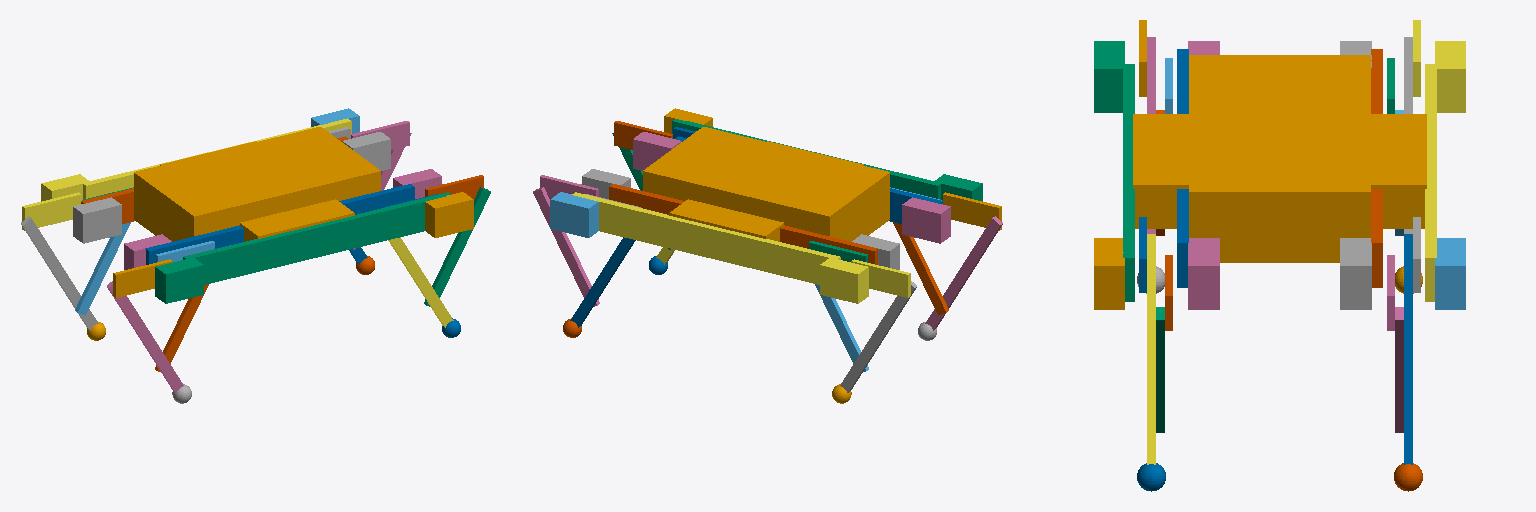
--- What the picture shows (computed from the rendered views, not written in the file) ---
3 views of the same robot in one strip: view 1: azimuth 30°, elevation 25°; view 2: azimuth 150°, elevation 25°; view 3: azimuth 270°, elevation 25° (orthographic).
Model minitaur with 40 links and 39 joints (16 continuous, 23 fixed), rooted at base_chassis_link_dummy, posed all joints at 0.
Visible links, largest first — view 1: base_chassis_link_dummy, frame1, chassis_left, frame3, motor_back_rightR_bracket_link, motor_front_rightR_bracket_link, chassis_right, lower_leg_back_leftL_link, lower_leg_back_rightR_link, frame2, upper_leg_back_leftL_link, lower_leg_front_rightR_link (+10 smaller); view 2: base_chassis_link_dummy, frame2, chassis_right, frame4, motor_back_leftL_bracket_link, motor_front_leftL_bracket_link, chassis_left, lower_leg_back_rightR_link, lower_leg_back_leftL_link, frame1, upper_leg_back_rightR_link, lower_leg_front_leftL_link (+10 smaller); view 3: base_chassis_link_dummy, chassis_left, chassis_right, frame2, frame1, motor_front_rightR_bracket_link, motor_front_leftL_bracket_link, motor_back_rightR_bracket_link, motor_back_leftL_bracket_link, lower_leg_front_leftL_link, lower_leg_front_rightR_link, frame3 (+13 smaller).
Link boxes in pixels (left/top/right/bottom): base_chassis_link_dummy: left=134, top=127, right=380, bottom=241; frame1: left=183, top=192, right=451, bottom=284; chassis_left: left=73, top=132, right=390, bottom=243; frame3: left=145, top=184, right=414, bottom=264; motor_back_rightR_bracket_link: left=155, top=258, right=203, bottom=303; motor_front_rightR_bracket_link: left=425, top=192, right=473, bottom=237; chassis_right: left=124, top=169, right=441, bottom=269; lower_leg_back_leftL_link: left=21, top=216, right=98, bottom=330; lower_leg_back_rightR_link: left=107, top=281, right=183, bottom=392; frame2: left=83, top=118, right=351, bottom=199; upper_leg_back_leftL_link: left=22, top=192, right=80, bottom=230; lower_leg_front_rightR_link: left=388, top=237, right=453, bottom=327; base_chassis_link_dummy: left=643, top=127, right=889, bottom=241; frame2: left=572, top=192, right=840, bottom=284; chassis_right: left=633, top=132, right=950, bottom=243; frame4: left=609, top=184, right=877, bottom=264; motor_back_leftL_bracket_link: left=820, top=258, right=868, bottom=303; motor_front_leftL_bracket_link: left=550, top=192, right=598, bottom=237; chassis_left: left=582, top=169, right=899, bottom=269; lower_leg_back_rightR_link: left=925, top=216, right=1002, bottom=330; lower_leg_back_leftL_link: left=840, top=281, right=916, bottom=392; frame1: left=672, top=119, right=940, bottom=199; upper_leg_back_rightR_link: left=943, top=192, right=1001, bottom=230; lower_leg_front_leftL_link: left=570, top=237, right=635, bottom=327; base_chassis_link_dummy: left=1133, top=55, right=1426, bottom=262; chassis_left: left=1340, top=41, right=1371, bottom=309; chassis_right: left=1188, top=41, right=1219, bottom=309; frame2: left=1425, top=64, right=1436, bottom=301; frame1: left=1123, top=64, right=1134, bottom=301; motor_front_rightR_bracket_link: left=1094, top=238, right=1124, bottom=309; motor_front_leftL_bracket_link: left=1435, top=238, right=1465, bottom=309; motor_back_rightR_bracket_link: left=1094, top=41, right=1124, bottom=112; motor_back_leftL_bracket_link: left=1435, top=41, right=1465, bottom=112; lower_leg_front_leftL_link: left=1404, top=234, right=1412, bottom=464; lower_leg_front_rightR_link: left=1147, top=234, right=1155, bottom=464; frame3: left=1177, top=49, right=1188, bottom=287.
Size in the robot's own frame: 0.6797 by 0.38 by 0.2883 metres.
Geometry: only primitive shapes (box / cylinder / sphere) drawn; not drawn: 8 mesh visuals (reference in a form the renderer does not follow).

URDF robot description (minitaur):
<?xml version="1.0" ?>
<!-- =================================================================================== -->
<!-- |    This document was autogenerated by xacro from minitaur_gazebo.urdf.xacro     | -->
<!-- |    EDITING THIS FILE BY HAND IS NOT RECOMMENDED                                 | -->
<!-- =================================================================================== -->
<!-- ======================================================================= -->
<!--LICENSE:                                                                 -->
<!--Copyright (c) 2017, Erwin Coumans                                        -->
<!--Google Inc.                                                              -->
<!--All rights reserved.                                                     -->
<!--                                                                         -->
<!--Redistribution and use in source and binary forms, with or without       -->
<!--modification, are permitted provided that the following conditions are   -->
<!--met:                                                                     -->
<!--                                                                         -->
<!--1. Redistributions or derived work must retain this copyright notice,    -->
<!--   this list of conditions and the following disclaimer.                 -->
<!--                                                                         -->
<!--2. Redistributions in binary form must reproduce the above copyright     -->
<!--   notice, this list of conditions and the following disclaimer in the   -->
<!--   documentation and/or other materials provided with the distribution.  -->
<!--                                                                         -->
<!--THIS SOFTWARE IS PROVIDED BY THE COPYRIGHT HOLDERS AND CONTRIBUTORS "AS  -->
<!--IS" AND ANY EXPRESS OR IMPLIED WARRANTIES, INCLUDING, BUT NOT LIMITED TO,-->
<!--THE IMPLIED WARRANTIES OF MERCHANTABILITY AND FITNESS FOR A PARTICULAR   -->
<!--PURPOSE ARE DISCLAIMED. IN NO EVENT SHALL THE COPYRIGHT HOLDER OR        -->
<!--CONTRIBUTORS BE LIABLE FOR ANY DIRECT, INDIRECT, INCIDENTAL, SPECIAL,    -->
<!--EXEMPLARY, OR CONSEQUENTIAL DAMAGES (INCLUDING, BUT NOT LIMITED TO,      -->
<!--PROCUREMENT OF SUBSTITUTE GOODS OR SERVICES; LOSS OF USE, DATA, OR       -->
<!--PROFITS; OR BUSINESS INTERRUPTION) HOWEVER CAUSED AND ON ANY THEORY OF   -->
<!--LIABILITY, WHETHER IN CONTRACT, STRICT LIABILITY, OR TORT (INCLUDING     -->
<!--NEGLIGENCE OR OTHERWISE) ARISING IN ANY WAY OUT OF THE USE OF THIS       -->
<!--SOFTWARE, EVEN IF ADVISED OF THE POSSIBILITY OF SUCH DAMAGE.             -->
<!--                                                                         -->
<!-- Converted to xacro by Tom Jacobs and Vasileios Vasilopoulos             -->
<!-- <[email redacted]>, <[email redacted]>              -->
<robot name="minitaur" xmlns:xacro="http://www.ros.org/wiki/xacro">
  <!-- Define parameters -->
  <!-- 7.18kg minitaur total weight - 0.016*4 - 0.10*8 - 0.25*8 - 0.05*8 - 0.05*8 = 3.516 -->
  <!-- * 4 frames -->
  <!-- * 8 motor modules -->
  <!-- * 8 motors -->
  <!-- * 8 upper legs -->
  <!-- * 8 lower legs -->
  <!-- LINK: Body dummy -->
  <link name="base_chassis_link_dummy">
    <visual>
      <geometry>
        <box size="0.33 0.1855 0.08"/>
      </geometry>
    </visual>
    <visual>
      <origin rpy="0 0 0" xyz="0 0.10 -0.014"/>
      <geometry>
        <box size="0.17 0.1 0.05"/>
      </geometry>
    </visual>
    <visual>
      <origin rpy="0 0 0" xyz="0 -0.10 -0.014"/>
      <geometry>
        <box size="0.17 0.1 0.05"/>
      </geometry>
    </visual>
    <collision>
      <geometry>
        <box size="0.33 0.1855 0.08"/>
      </geometry>
    </collision>
    <collision>
      <origin rpy="0 0 0" xyz="0 0.10 -0.014"/>
      <geometry>
        <box size="0.17 0.1 0.05"/>
      </geometry>
    </collision>
    <collision>
      <origin rpy="0 0 0" xyz="0 -0.10 -0.014"/>
      <geometry>
        <box size="0.17 0.1 0.05"/>
      </geometry>
    </collision>
  </link>
  <gazebo reference="base_chassis_link_dummy">
    <material>Gazebo/FlatBlack</material>
  </gazebo>
  <!-- LINK: Body -->
  <link name="base_chassis_link">
    <visual>
      <geometry>
        <box size="0.33 0.1855 0.08"/>
      </geometry>
    </visual>
    <visual>
      <origin rpy="0 0 0" xyz="0 0.10 -0.014"/>
      <geometry>
        <box size="0.17 0.1 0.05"/>
      </geometry>
    </visual>
    <visual>
      <origin rpy="0 0 0" xyz="0 -0.10 -0.014"/>
      <geometry>
        <box size="0.17 0.1 0.05"/>
      </geometry>
    </visual>
    <collision>
      <geometry>
        <box size="0.33 0.1855 0.08"/>
      </geometry>
    </collision>
    <collision>
      <origin rpy="0 0 0" xyz="0 0.10 -0.014"/>
      <geometry>
        <box size="0.17 0.1 0.05"/>
      </geometry>
    </collision>
    <collision>
      <origin rpy="0 0 0" xyz="0 -0.10 -0.014"/>
      <geometry>
        <box size="0.17 0.1 0.05"/>
      </geometry>
    </collision>
    <inertial>
      <mass value="3.516"/>
      <origin rpy="0 0 0" xyz="0 0 0"/>
      <!-- https://en.wikipedia.org/wiki/List_of_moments_of_inertia Solid Cuboid -->
      <inertia ixx="0.01195740325" ixy="0.0" ixz="0.0" iyy="0.0337829" iyz="0.0" izz="0.04198990325"/>
    </inertial>
  </link>
  <gazebo reference="base_chassis_link">
    <material>Gazebo/FlatBlack</material>
  </gazebo>
  <!-- JOINT: body to body dummy -->
  <joint name="dummy_joint" type="fixed">
    <axis xyz="0 0 1"/>
    <parent link="base_chassis_link_dummy"/>
    <child link="base_chassis_link"/>
    <origin rpy="0 0 0" xyz="0 0 0"/>
    <limit effort="100" velocity="100"/>
    <joint_properties damping=".0" friction=".0"/>
  </joint>
  <!-- LINK: frame1 -->
  <link name="frame1">
    <visual>
      <origin rpy="0 0 0" xyz="-0.22 0 0"/>
      <geometry>
        <box size="0.468 .012 .050"/>
      </geometry>
    </visual>
    <collision>
      <origin rpy="0 0 0" xyz="-0.22 0 0"/>
      <geometry>
        <box size="0.468 .012 .050"/>
      </geometry>
    </collision>
    <inertial>
      <origin rpy="0 0 0" xyz="0 -0.03 0"/>
      <mass value="0.16"/>
      <inertia ixx=".00011397" ixy=".0" ixz=".0" iyy=".00011397" iyz=".0" izz=".00021765"/>
    </inertial>
  </link>
  <gazebo reference="frame1">
    <material>Gazebo/Grey</material>
  </gazebo>
  <!-- JOINT: frame1 to body -->
  <joint name="frame1_joint" type="fixed">
    <axis xyz="0 0 1"/>
    <parent link="base_chassis_link"/>
    <child link="frame1"/>
    <origin rpy="0 0 0" xyz=".2375 -0.154 -.0185"/>
    <limit effort="100" velocity="100"/>
    <joint_properties damping=".0" friction=".0"/>
  </joint>
  <!-- LINK: frame2 -->
  <link name="frame2">
    <visual>
      <origin rpy="0 0 0" xyz="-0.22 0 0"/>
      <geometry>
        <box size="0.468 .012 .050"/>
      </geometry>
    </visual>
    <collision>
      <origin rpy="0 0 0" xyz="-0.22 0 0"/>
      <geometry>
        <box size="0.468 .012 .050"/>
      </geometry>
    </collision>
    <inertial>
      <origin rpy="0 0 0" xyz="0 0.02 0"/>
      <mass value="0.16"/>
      <inertia ixx=".00011397" ixy=".0" ixz=".0" iyy=".00011397" iyz=".0" izz=".00021765"/>
    </inertial>
  </link>
  <gazebo reference="frame2">
    <material>Gazebo/Grey</material>
  </gazebo>
  <!-- JOINT: frame2 to body -->
  <joint name="frame2_joint" type="fixed">
    <axis xyz="0 0 1"/>
    <parent link="base_chassis_link"/>
    <child link="frame2"/>
    <origin rpy="0 0 0" xyz=".2375 0.154 -.0185"/>
    <limit effort="100" velocity="100"/>
    <joint_properties damping=".0" friction=".0"/>
  </joint>
  <!-- LINK: frame3 -->
  <link name="frame3">
    <visual>
      <origin rpy="0 0 0" xyz="0.22 0.055 0"/>
      <geometry>
        <box size="0.468 .012 .050"/>
      </geometry>
    </visual>
    <collision>
      <origin rpy="0 0 0" xyz="0.22 0.055 0"/>
      <geometry>
        <box size="0.468 .012 .050"/>
      </geometry>
    </collision>
    <inertial>
      <origin rpy="0 0 0" xyz="0 -0.03 0"/>
      <mass value="0.16"/>
      <inertia ixx=".00011397" ixy=".0" ixz=".0" iyy=".00011397" iyz=".0" izz=".00021765"/>
    </inertial>
  </link>
  <gazebo reference="frame3">
    <material>Gazebo/Grey</material>
  </gazebo>
  <!-- JOINT: frame3 to body -->
  <joint name="frame3_joint" type="fixed">
    <axis xyz="0 0 1"/>
    <parent link="base_chassis_link"/>
    <child link="frame3"/>
    <origin rpy="0 0 0" xyz="-.2375 -0.154 -.0185"/>
    <limit effort="100" velocity="100"/>
    <joint_properties damping=".0" friction=".0"/>
  </joint>
  <!-- LINK: frame4 -->
  <link name="frame4">
    <visual>
      <origin rpy="0 0 0" xyz="0.22 -0.055 0"/>
      <geometry>
        <box size="0.468 .012 .050"/>
      </geometry>
    </visual>
    <collision>
      <origin rpy="0 0 0" xyz="0.22 -0.055 0"/>
      <geometry>
        <box size="0.468 .012 .050"/>
      </geometry>
    </collision>
    <inertial>
      <origin rpy="0 0 0" xyz="0 0.02 0"/>
      <mass value="0.16"/>
      <inertia ixx=".00011397" ixy=".0" ixz=".0" iyy=".00011397" iyz=".0" izz=".00021765"/>
    </inertial>
  </link>
  <gazebo reference="frame4">
    <material>Gazebo/Grey</material>
  </gazebo>
  <!-- JOINT: frame4 to body -->
  <joint name="frame4" type="fixed">
    <axis xyz="0 0 1"/>
    <parent link="base_chassis_link"/>
    <child link="frame4"/>
    <origin rpy="0 0 0" xyz="-.2375 0.154 -.0185"/>
    <limit effort="100" velocity="100"/>
    <joint_properties damping=".0" friction=".0"/>
  </joint>
  <!-- Inside motor module boxes -->
  <!-- LINK: chassis_right -->
  <link name="chassis_right">
    <visual>
      <origin rpy="0 0 0" xyz=".2375 .049 0"/>
      <geometry>
        <box size=".068 .032 .050"/>
      </geometry>
    </visual>
    <visual>
      <origin rpy="0 0 0" xyz="-.2375 .049 0"/>
      <geometry>
        <box size=".068 .032 .050"/>
      </geometry>
    </visual>
    <collision>
      <origin rpy="0 0 0" xyz=".2375 .049 0"/>
      <geometry>
        <box size=".068 .032 .050"/>
      </geometry>
    </collision>
    <collision>
      <origin rpy="0 0 0" xyz="-.2375 .049 0"/>
      <geometry>
        <box size=".068 .032 .050"/>
      </geometry>
    </collision>
    <inertial>
      <mass value="0.2"/>
      <inertia ixx=".004147" ixy=".0" ixz=".0" iyy=".040913" iyz=".0" izz=".041840"/>
    </inertial>
  </link>
  <gazebo reference="chassis_right">
    <material>Gazebo/Black</material>
  </gazebo>
  <!-- JOINT: chassis_right_center to body -->
  <joint name="chassis_right_center" type="fixed">
    <axis xyz="0 0 1"/>
    <parent link="base_chassis_link"/>
    <child link="chassis_right"/>
    <origin rpy="0 0 0" xyz="0 -.1265 -.0185"/>
    <limit effort="100" velocity="100"/>
    <joint_properties damping=".0" friction=".0"/>
  </joint>
  <!-- LINK: chassis_left -->
  <link name="chassis_left">
    <visual>
      <origin rpy="0 0 0" xyz=".2375 -.049 0"/>
      <geometry>
        <box size=".068 .032 .050"/>
      </geometry>
    </visual>
    <visual>
      <origin rpy="0 0 0" xyz="-.2375 -.049 0"/>
      <geometry>
        <box size=".068 .032 .050"/>
      </geometry>
    </visual>
    <collision>
      <origin rpy="0 0 0" xyz=".2375 -.049 0"/>
      <geometry>
        <box size=".068 .032 .050"/>
      </geometry>
    </collision>
    <collision>
      <origin rpy="0 0 0" xyz="-.2375 -.049 0"/>
      <geometry>
        <box size=".068 .032 .050"/>
      </geometry>
    </collision>
    <inertial>
      <mass value="0.2"/>
      <inertia ixx=".004147" ixy=".0" ixz=".0" iyy=".040913" iyz=".0" izz=".041840"/>
    </inertial>
  </link>
  <gazebo reference="chassis_left">
    <material>Gazebo/Black</material>
  </gazebo>
  <!-- JOINT: chassis_left_center to body -->
  <joint name="chassis_left_center" type="fixed">
    <axis xyz="0 0 1"/>
    <parent link="base_chassis_link"/>
    <child link="chassis_left"/>
    <origin rpy="0 0 0" xyz="0 .1265 -.0185"/>
    <limit effort="100" velocity="100"/>
    <joint_properties damping=".0" friction=".0"/>
  </joint>
  <!-- Outside motor module boxes -->
  <!-- LINK: motor_front_rightR_bracket_link -->
  <link name="motor_front_rightR_bracket_link">
    <visual>
      <origin rpy="0 0 0" xyz="0 -0.02 0"/>
      <geometry>
        <box size="0.068 .032 .050"/>
      </geometry>
    </visual>
    <collision>
      <origin rpy="0 0 0" xyz="0 -0.02 0"/>
      <geometry>
        <box size=".068 .032 .050"/>
      </geometry>
    </collision>
    <inertial>
      <origin rpy="0 0 0" xyz="0 -0.03 0"/>
      <mass value="0.1"/>
      <inertia ixx=".00011397" ixy=".0" ixz=".0" iyy=".00011397" iyz=".0" izz=".00021765"/>
    </inertial>
  </link>
  <gazebo reference="motor_front_rightR_bracket_link">
    <material>Gazebo/Black</material>
  </gazebo>
  <!-- JOINT: motor_front_rightR_bracket_link to body -->
  <joint name="motor_front_rightR_bracket_joint" type="fixed">
    <axis xyz="0 0 1"/>
    <parent link="base_chassis_link"/>
    <child link="motor_front_rightR_bracket_link"/>
    <origin rpy="0 0 0" xyz=".2375 -0.154 -.0185"/>
    <limit effort="100" velocity="100"/>
    <joint_properties damping=".0" friction=".0"/>
  </joint>
  <!-- LINK: motor_front_leftL_bracket_link -->
  <link name="motor_front_leftL_bracket_link">
    <visual>
      <origin rpy="0 0 0" xyz="0 0.02 0"/>
      <geometry>
        <box size="0.068 .032 .050"/>
      </geometry>
    </visual>
    <collision>
      <origin rpy="0 0 0" xyz="0 0.02 0"/>
      <geometry>
        <box size=".068 .032 .050"/>
      </geometry>
    </collision>
    <inertial>
      <origin rpy="0 0 0" xyz="0 0.02 0"/>
      <mass value="0.1"/>
      <inertia ixx=".00011397" ixy=".0" ixz=".0" iyy=".00011397" iyz=".0" izz=".00021765"/>
    </inertial>
  </link>
  <gazebo reference="motor_front_leftL_bracket_link">
    <material>Gazebo/Black</material>
  </gazebo>
  <!-- JOINT: motor_front_leftL_bracket_joint to body -->
  <joint name="motor_front_leftL_bracket_joint" type="fixed">
    <axis xyz="0 0 1"/>
    <parent link="base_chassis_link"/>
    <child link="motor_front_leftL_bracket_link"/>
    <origin rpy="0 0 0" xyz=".2375 0.154 -.0185"/>
    <limit effort="100" velocity="100"/>
    <joint_properties damping=".0" friction=".0"/>
  </joint>
  <!-- LINK: motor_back_rightR_bracket_link -->
  <link name="motor_back_rightR_bracket_link">
    <visual>
      <origin rpy="0 0 0" xyz="0 -0.02 0"/>
      <geometry>
        <box size="0.068 .032 .050"/>
      </geometry>
    </visual>
    <collision>
      <origin rpy="0 0 0" xyz="0 -0.02 0"/>
      <geometry>
        <box size=".068 .032 .050"/>
      </geometry>
    </collision>
    <inertial>
      <origin rpy="0 0 0" xyz="0 -0.03 0"/>
      <mass value="0.1"/>
      <inertia ixx=".00011397" ixy=".0" ixz=".0" iyy=".00011397" iyz=".0" izz=".00021765"/>
    </inertial>
  </link>
  <gazebo reference="motor_back_rightR_bracket_link">
    <material>Gazebo/Black</material>
  </gazebo>
  <!-- JOINT: motor_back_rightR_bracket_joint to body -->
  <joint name="motor_back_rightR_bracket_joint" type="fixed">
    <axis xyz="0 0 1"/>
    <parent link="base_chassis_link"/>
    <child link="motor_back_rightR_bracket_link"/>
    <origin rpy="0 0 0" xyz="-.2375 -0.154 -.0185"/>
    <limit effort="100" velocity="100"/>
    <joint_properties damping=".0" friction=".0"/>
  </joint>
  <!-- LINK: motor_back_leftL_bracket_link -->
  <link name="motor_back_leftL_bracket_link">
    <visual>
      <origin rpy="0 0 0" xyz="0 0.02 0"/>
      <geometry>
        <box size="0.068 .032 .050"/>
      </geometry>
    </visual>
    <collision>
      <origin rpy="0 0 0" xyz="0 0.02 0"/>
      <geometry>
        <box size=".068 .032 .050"/>
      </geometry>
    </collision>
    <inertial>
      <origin rpy="0 0 0" xyz="0 0.02 0"/>
      <mass value="0.1"/>
      <inertia ixx=".00011397" ixy=".0" ixz=".0" iyy=".00011397" iyz=".0" izz=".00021765"/>
    </inertial>
  </link>
  <gazebo reference="motor_back_leftL_bracket_link">
    <material>Gazebo/Black</material>
  </gazebo>
  <!-- JOINT: motor_back_leftL_bracket_joint to body -->
  <joint name="motor_back_leftL_bracket_joint" type="fixed">
    <axis xyz="0 0 1"/>
    <parent link="base_chassis_link"/>
    <child link="motor_back_leftL_bracket_link"/>
    <origin rpy="0 0 0" xyz="-.2375 0.154 -.0185"/>
    <limit effort="100" velocity="100"/>
    <joint_properties damping=".0" friction=".0"/>
  </joint>
  <!-- Define our motor macro -->
  <!-- Motors -->
  <!-- LINK: motor_${location}_${side}${LR}_link -->
  <link name="motor_front_rightR_link">
    <visual>
      <geometry>
        <mesh filename="model://minitaur_constrained/../../urdf/tmotor3.dae" scale="100 100 100"/>
      </geometry>
    </visual>
    <collision>
      <geometry>
        <cylinder length="0.021" radius="0.0425"/>
      </geometry>
    </collision>
    <inertial>
      <mass value="0.25"/>
      <inertia ixx=".00011397" ixy=".0" ixz=".0" iyy=".00011397" iyz=".0" izz=".00021765"/>
    </inertial>
  </link>
  <!-- JOINT: motor_${location}_${side}${LR}_link to ${chassis} -->
  <joint name="5" type="continuous">
    <axis xyz="0 0 1"/>
    <parent link="motor_front_rightR_bracket_link"/>
    <child link="motor_front_rightR_link"/>
    <origin rpy="1.57075 -1.57075 0" xyz="0 0 0"/>
    <limit effort="100" velocity="100"/>
    <joint_properties damping="0.0" friction="0.0"/>
  </joint>
  <!-- Transmission elements required for Gazebo -->
  <transmission name="transmission_5">
    <type>transmission_interface/SimpleTransmission</type>
    <joint name="5">
      <hardwareInterface>hardware_interface/EffortJointInterface</hardwareInterface>
    </joint>
    <actuator name="motor_5">
      <hardwareInterface>EffortJointInterface</hardwareInterface>
      <mechanicalReduction>1</mechanicalReduction>
    </actuator>
  </transmission>
  <!-- LINK: motor_${location}_${side}${LR}_link -->
  <link name="motor_front_rightL_link">
    <visual>
      <geometry>
        <mesh filename="model://minitaur_constrained/../../urdf/tmotor3.dae" scale="100 100 100"/>
      </geometry>
    </visual>
    <collision>
      <geometry>
        <cylinder length="0.021" radius="0.0425"/>
      </geometry>
    </collision>
    <inertial>
      <mass value="0.25"/>
      <inertia ixx=".00011397" ixy=".0" ixz=".0" iyy=".00011397" iyz=".0" izz=".00021765"/>
    </inertial>
  </link>
  <!-- JOINT: motor_${location}_${side}${LR}_link to ${chassis} -->
  <joint name="4" type="continuous">
    <axis xyz="0 0 -1"/>
    <parent link="chassis_right"/>
    <child link="motor_front_rightL_link"/>
    <origin rpy="1.57075 1.57075 0" xyz=".2375 .0275 0"/>
    <limit effort="100" velocity="100"/>
    <joint_properties damping="0.0" friction="0.0"/>
  </joint>
  <!-- Transmission elements required for Gazebo -->
  <transmission name="transmission_4">
    <type>transmission_interface/SimpleTransmission</type>
    <joint name="4">
      <hardwareInterface>hardware_interface/EffortJointInterface</hardwareInterface>
    </joint>
    <actuator name="motor_4">
      <hardwareInterface>EffortJointInterface</hardwareInterface>
      <mechanicalReduction>1</mechanicalReduction>
    </actuator>
  </transmission>
  <!-- LINK: motor_${location}_${side}${LR}_link -->
  <link name="motor_front_leftL_link">
    <visual>
      <geometry>
        <mesh filename="model://minitaur_constrained/../../urdf/tmotor3.dae" scale="100 100 100"/>
      </geometry>
    </visual>
    <collision>
      <geometry>
        <cylinder length="0.021" radius="0.0425"/>
      </geometry>
    </collision>
    <inertial>
      <mass value="0.25"/>
      <inertia ixx=".00011397" ixy=".0" ixz=".0" iyy=".00011397" iyz=".0" izz=".00021765"/>
    </inertial>
  </link>
  <!-- JOINT: motor_${location}_${side}${LR}_link to ${chassis} -->
  <joint name="0" type="continuous">
    <axis xyz="0 0 -1"/>
    <parent link="motor_front_leftL_bracket_link"/>
    <child link="motor_front_leftL_link"/>
    <origin rpy="1.57075 -1.57075 0" xyz="0 0 0"/>
    <limit effort="100" velocity="100"/>
    <joint_properties damping="0.0" friction="0.0"/>
  </joint>
  <!-- Transmission elements required for Gazebo -->
  <transmission name="transmission_0">
    <type>transmission_interface/SimpleTransmission</type>
    <joint name="0">
      <hardwareInterface>hardware_interface/EffortJointInterface</hardwareInterface>
    </joint>
    <actuator name="motor_0">
      <hardwareInterface>EffortJointInterface</hardwareInterface>
      <mechanicalReduction>1</mechanicalReduction>
    </actuator>
  </transmission>
  <!-- LINK: motor_${location}_${side}${LR}_link -->
  <link name="motor_front_leftR_link">
    <visual>
      <geometry>
        <mesh filename="model://minitaur_constrained/../../urdf/tmotor3.dae" scale="100 100 100"/>
      </geometry>
    </visual>
    <collision>
      <geometry>
        <cylinder length="0.021" radius="0.0425"/>
      </geometry>
    </collision>
    <inertial>
      <mass value="0.25"/>
      <inertia ixx=".00011397" ixy=".0" ixz=".0" iyy=".00011397" iyz=".0" izz=".00021765"/>
    </inertial>
  </link>
  <!-- JOINT: motor_${location}_${side}${LR}_link to ${chassis} -->
  <joint name="1" type="continuous">
    <axis xyz="0 0 1"/>
    <parent link="chassis_left"/>
    <child link="motor_front_leftR_link"/>
    <origin rpy="1.57075 1.57075 0" xyz=".2375 -.0275 0"/>
    <limit effort="100" velocity="100"/>
    <joint_properties damping="0.0" friction="0.0"/>
  </joint>
  <!-- Transmission elements required for Gazebo -->
  <transmission name="transmission_1">
    <type>transmission_interface/SimpleTransmission</type>
    <joint name="1">
      <hardwareInterface>hardware_interface/EffortJointInterface</hardwareInterface>
    </joint>
    <actuator name="motor_1">
      <hardwareInterface>EffortJointInterface</hardwareInterface>
      <mechanicalReduction>1</mechanicalReduction>
    </actuator>
  </transmission>
  <!-- LINK: motor_${location}_${side}${LR}_link -->
  <link name="motor_back_rightR_link">
    <visual>
      <geometry>
        <mesh filename="model://minitaur_constrained/../../urdf/tmotor3.dae" scale="100 100 100"/>
      </geometry>
    </visual>
    <collision>
      <geometry>
        <cylinder length="0.021" radius="0.0425"/>
      </geometry>
    </collision>
    <inertial>
      <mass value="0.25"/>
      <inertia ixx=".00011397" ixy=".0" ixz=".0" iyy=".00011397" iyz=".0" izz=".00021765"/>
    </inertial>
  </link>
  <!-- JOINT: motor_${location}_${side}${LR}_link to ${chassis} -->
  <joint name="7" type="continuous">
    <axis xyz="0 0 1"/>
    <parent link="motor_back_rightR_bracket_link"/>
    <child link="motor_back_rightR_link"/>
    <origin rpy="1.57075 -1.57075 0" xyz="0 0 0"/>
    <limit effort="100" velocity="100"/>
    <joint_properties damping="0.0" friction="0.0"/>
  </joint>
  <!-- Transmission elements required for Gazebo -->
  <transmission name="transmission_7">
    <type>transmission_interface/SimpleTransmission</type>
    <joint name="7">
      <hardwareInterface>hardware_interface/EffortJointInterface</hardwareInterface>
    </joint>
    <actuator name="motor_7">
      <hardwareInterface>EffortJointInterface</hardwareInterface>
      <mechanicalReduction>1</mechanicalReduction>
    </actuator>
  </transmission>
  <!-- LINK: motor_${location}_${side}${LR}_link -->
  <link name="motor_back_rightL_link">
    <visual>
      <geometry>
        <mesh filename="model://minitaur_constrained/../../urdf/tmotor3.dae" scale="100 100 100"/>
      </geometry>
    </visual>
    <collision>
      <geometry>
        <cylinder length="0.021" radius="0.0425"/>
      </geometry>
    </collision>
    <inertial>
      <mass value="0.25"/>
      <inertia ixx=".00011397" ixy=".0" ixz=".0" iyy=".00011397" iyz=".0" izz=".00021765"/>
    </inertial>
  </link>
  <!-- JOINT: motor_${location}_${side}${LR}_link to ${chassis} -->
  <joint name="6" type="continuous">
    <axis xyz="0 0 -1"/>
    <parent link="chassis_right"/>
    <child link="motor_back_rightL_link"/>
    <origin rpy="1.57075 1.57075 0" xyz="-.2375 .0275 0"/>
    <limit effort="100" velocity="100"/>
    <joint_properties damping="0.0" friction="0.0"/>
  </joint>
  <!-- Transmission elements required for Gazebo -->
  <transmission name="transmission_6">
    <type>transmission_interface/SimpleTransmission</type>
    <joint name="6">
      <hardwareInterface>hardware_interface/EffortJointInterface</hardwareInterface>
    </joint>
    <actuator name="motor_6">
      <hardwareInterface>EffortJointInterface</hardwareInterface>
      <mechanicalReduction>1</mechanicalReduction>
    </actuator>
  </transmission>
  <!-- LINK: motor_${location}_${side}${LR}_link -->
  <link name="motor_back_leftL_link">
    <visual>
      <geometry>
        <mesh filename="model://minitaur_constrained/../../urdf/tmotor3.dae" scale="100 100 100"/>
      </geometry>
    </visual>
    <collision>
      <geometry>
        <cylinder length="0.021" radius="0.0425"/>
      </geometry>
    </collision>
    <inertial>
      <mass value="0.25"/>
      <inertia ixx=".00011397" ixy=".0" ixz=".0" iyy=".00011397" iyz=".0" izz=".00021765"/>
    </inertial>
  </link>
  <!-- JOINT: motor_${location}_${side}${LR}_link to ${chassis} -->
  <joint name="2" type="continuous">
    <axis xyz="0 0 -1"/>
    <parent link="motor_back_leftL_bracket_link"/>
    <child link="motor_back_leftL_link"/>
    <origin rpy="1.57075 -1.57075 0" xyz="0 0 0"/>
    <limit effort="100" velocity="100"/>
    <joint_properties damping="0.0" friction="0.0"/>
  </joint>
  <!-- Transmission elements required for Gazebo -->
  <transmission name="transmission_2">
    <type>transmission_interface/SimpleTransmission</type>
    <joint name="2">
      <hardwareInterface>hardware_interface/EffortJointInterface</hardwareInterface>
    </joint>
    <actuator name="motor_2">
      <hardwareInterface>EffortJointInterface</hardwareInterface>
      <mechanicalReduction>1</mechanicalReduction>
    </actuator>
  </transmission>
  <!-- LINK: motor_${location}_${side}${LR}_link -->
  <link name="motor_back_leftR_link">
    <visual>
      <geometry>
        <mesh filename="model://minitaur_constrained/../../urdf/tmotor3.dae" scale="100 100 100"/>
      </geometry>
    </visual>
    <collision>
      <geometry>
        <cylinder length="0.021" radius="0.0425"/>
      </geometry>
    </collision>
    <inertial>
      <mass value="0.25"/>
      <inertia ixx=".00011397" ixy=".0" ixz=".0" iyy=".00011397" iyz=".0" izz=".00021765"/>
    </inertial>
  </link>
  <!-- JOINT: motor_${location}_${side}${LR}_link to ${chassis} -->
  <joint name="3" type="continuous">
    <axis xyz="0 0 1"/>
    <parent link="chassis_left"/>
    <child link="motor_back_leftR_link"/>
    <origin rpy="1.57075 1.57075 0" xyz="-.2375 -.0275 0"/>
    <limit effort="100" velocity="100"/>
    <joint_properties damping="0.0" friction="0.0"/>
  </joint>
  <!-- Transmission elements required for Gazebo -->
  <transmission name="transmission_3">
    <type>transmission_interface/SimpleTransmission</type>
    <joint name="3">
      <hardwareInterface>hardware_interface/EffortJointInterface</hardwareInterface>
    </joint>
    <actuator name="motor_3">
      <hardwareInterface>EffortJointInterface</hardwareInterface>
      <mechanicalReduction>1</mechanicalReduction>
    </actuator>
  </transmission>
  <!-- Define our upper leg macro -->
  <!-- Define our lower leg macro -->
  <!-- Legs -->
  <!-- LINK: upper_leg_${location}_link -->
  <link name="upper_leg_front_rightR_link">
    <visual>
      <geometry>
        <box size="0.039 0.008 0.1"/>
      </geometry>
    </visual>
    <collision>
      <geometry>
        <box size="0.039 0.008 0.1"/>
      </geometry>
    </collision>
    <inertial>
      <mass value="0.05"/>
      <inertia ixx=".000038770" ixy=".0" ixz=".0" iyy=".000042198" iyz=".0" izz=".0000036030"/>
    </inertial>
  </link>
  <gazebo reference="upper_leg_front_rightR_link">
    <material>Gazebo/Grey</material>
  </gazebo>
  <!-- JOINT: ${hip}_${location}_link to motor_${location}_link -->
  <joint name="hip_front_rightR_link" type="fixed">
    <axis xyz="0 0 1"/>
    <parent link="motor_front_rightR_link"/>
    <child link="upper_leg_front_rightR_link"/>
    <origin rpy="-1.57075 0 0" xyz="0 .045 -.0145"/>
    <limit effort="100" velocity="100"/>
    <joint_properties damping="0.0" friction="0.0"/>
  </joint>
  <!-- LINK: upper_leg_${location}_link -->
  <link name="upper_leg_front_rightL_link">
    <visual>
      <geometry>
        <box size="0.039 0.008 0.1"/>
      </geometry>
    </visual>
    <collision>
      <geometry>
        <box size="0.039 0.008 0.1"/>
      </geometry>
    </collision>
    <inertial>
      <mass value="0.05"/>
      <inertia ixx=".000038770" ixy=".0" ixz=".0" iyy=".000042198" iyz=".0" izz=".0000036030"/>
    </inertial>
  </link>
  <gazebo reference="upper_leg_front_rightL_link">
    <material>Gazebo/Grey</material>
  </gazebo>
  <!-- JOINT: ${hip}_${location}_link to motor_${location}_link -->
  <joint name="motor_front_rightL_link" type="fixed">
    <axis xyz="0 0 1"/>
    <parent link="motor_front_rightL_link"/>
    <child link="upper_leg_front_rightL_link"/>
    <origin rpy="-1.57075 0 0" xyz="0 .045 .0145"/>
    <limit effort="100" velocity="100"/>
    <joint_properties damping="0.0" friction="0.0"/>
  </joint>
  <!-- LINK: upper_leg_${location}_link -->
  <link name="upper_leg_front_leftR_link">
    <visual>
      <geometry>
        <box size="0.039 0.008 0.1"/>
      </geometry>
    </visual>
    <collision>
      <geometry>
        <box size="0.039 0.008 0.1"/>
      </geometry>
    </collision>
    <inertial>
      <mass value="0.05"/>
      <inertia ixx=".000038770" ixy=".0" ixz=".0" iyy=".000042198" iyz=".0" izz=".0000036030"/>
    </inertial>
  </link>
  <gazebo reference="upper_leg_front_leftR_link">
    <material>Gazebo/Grey</material>
  </gazebo>
  <!-- JOINT: ${hip}_${location}_link to motor_${location}_link -->
  <joint name="hip_front_leftR_link" type="fixed">
    <axis xyz="0 0 1"/>
    <parent link="motor_front_leftR_link"/>
    <child link="upper_leg_front_leftR_link"/>
    <origin rpy="-1.57075 0 0" xyz="0 .045 -.0145"/>
    <limit effort="100" velocity="100"/>
    <joint_properties damping="0.0" friction="0.0"/>
  </joint>
  <!-- LINK: upper_leg_${location}_link -->
  <link name="upper_leg_front_leftL_link">
    <visual>
      <geometry>
        <box size="0.039 0.008 0.1"/>
      </geometry>
    </visual>
    <collision>
      <geometry>
        <box size="0.039 0.008 0.1"/>
      </geometry>
    </collision>
    <inertial>
      <mass value="0.05"/>
      <inertia ixx=".000038770" ixy=".0" ixz=".0" iyy=".000042198" iyz=".0" izz=".0000036030"/>
    </inertial>
  </link>
  <gazebo reference="upper_leg_front_leftL_link">
    <material>Gazebo/Grey</material>
  </gazebo>
  <!-- JOINT: ${hip}_${location}_link to motor_${location}_link -->
  <joint name="motor_front_leftL_link" type="fixed">
    <axis xyz="0 0 1"/>
    <parent link="motor_front_leftL_link"/>
    <child link="upper_leg_front_leftL_link"/>
    <origin rpy="-1.57075 0 0" xyz="0 .045 .0145"/>
    <limit effort="100" velocity="100"/>
    <joint_properties damping="0.0" friction="0.0"/>
  </joint>
  <!-- LINK: upper_leg_${location}_link -->
  <link name="upper_leg_back_rightR_link">
    <visual>
      <geometry>
        <box size="0.039 0.008 0.1"/>
      </geometry>
    </visual>
    <collision>
      <geometry>
        <box size="0.039 0.008 0.1"/>
      </geometry>
    </collision>
    <inertial>
      <mass value="0.05"/>
      <inertia ixx=".000038770" ixy=".0" ixz=".0" iyy=".000042198" iyz=".0" izz=".0000036030"/>
    </inertial>
  </link>
  <gazebo reference="upper_leg_back_rightR_link">
    <material>Gazebo/Grey</material>
  </gazebo>
  <!-- JOINT: ${hip}_${location}_link to motor_${location}_link -->
  <joint name="hip_back_rightR_link" type="fixed">
    <axis xyz="0 0 1"/>
    <parent link="motor_back_rightR_link"/>
    <child link="upper_leg_back_rightR_link"/>
    <origin rpy="-1.57075 0 0" xyz="0 .045 -.0145"/>
    <limit effort="100" velocity="100"/>
    <joint_properties damping="0.0" friction="0.0"/>
  </joint>
  <!-- LINK: upper_leg_${location}_link -->
  <link name="upper_leg_back_rightL_link">
    <visual>
      <geometry>
        <box size="0.039 0.008 0.1"/>
      </geometry>
    </visual>
    <collision>
      <geometry>
        <box size="0.039 0.008 0.1"/>
      </geometry>
    </collision>
    <inertial>
      <mass value="0.05"/>
      <inertia ixx=".000038770" ixy=".0" ixz=".0" iyy=".000042198" iyz=".0" izz=".0000036030"/>
    </inertial>
  </link>
  <gazebo reference="upper_leg_back_rightL_link">
    <material>Gazebo/Grey</material>
  </gazebo>
  <!-- JOINT: ${hip}_${location}_link to motor_${location}_link -->
  <joint name="motor_back_rightL_link" type="fixed">
    <axis xyz="0 0 1"/>
    <parent link="motor_back_rightL_link"/>
    <child link="upper_leg_back_rightL_link"/>
    <origin rpy="-1.57075 0 0" xyz="0 .045 .0145"/>
    <limit effort="100" velocity="100"/>
    <joint_properties damping="0.0" friction="0.0"/>
  </joint>
  <!-- LINK: upper_leg_${location}_link -->
  <link name="upper_leg_back_leftR_link">
    <visual>
      <geometry>
        <box size="0.039 0.008 0.1"/>
      </geometry>
    </visual>
    <collision>
      <geometry>
        <box size="0.039 0.008 0.1"/>
      </geometry>
    </collision>
    <inertial>
      <mass value="0.05"/>
      <inertia ixx=".000038770" ixy=".0" ixz=".0" iyy=".000042198" iyz=".0" izz=".0000036030"/>
    </inertial>
  </link>
  <gazebo reference="upper_leg_back_leftR_link">
    <material>Gazebo/Grey</material>
  </gazebo>
  <!-- JOINT: ${hip}_${location}_link to motor_${location}_link -->
  <joint name="hip_back_leftR_link" type="fixed">
    <axis xyz="0 0 1"/>
    <parent link="motor_back_leftR_link"/>
    <child link="upper_leg_back_leftR_link"/>
    <origin rpy="-1.57075 0 0" xyz="0 .045 -.0145"/>
    <limit effort="100" velocity="100"/>
    <joint_properties damping="0.0" friction="0.0"/>
  </joint>
  <!-- LINK: upper_leg_${location}_link -->
  <link name="upper_leg_back_leftL_link">
    <visual>
      <geometry>
        <box size="0.039 0.008 0.1"/>
      </geometry>
    </visual>
    <collision>
      <geometry>
        <box size="0.039 0.008 0.1"/>
      </geometry>
    </collision>
    <inertial>
      <mass value="0.05"/>
      <inertia ixx=".000038770" ixy=".0" ixz=".0" iyy=".000042198" iyz=".0" izz=".0000036030"/>
    </inertial>
  </link>
  <gazebo reference="upper_leg_back_leftL_link">
    <material>Gazebo/Grey</material>
  </gazebo>
  <!-- JOINT: ${hip}_${location}_link to motor_${location}_link -->
  <joint name="motor_back_leftL_link" type="fixed">
    <axis xyz="0 0 1"/>
    <parent link="motor_back_leftL_link"/>
    <child link="upper_leg_back_leftL_link"/>
    <origin rpy="-1.57075 0 0" xyz="0 .045 .0145"/>
    <limit effort="100" velocity="100"/>
    <joint_properties damping="0.0" friction="0.0"/>
  </joint>
  <!-- Lower legs and flexy knee joints -->
  <!-- LINK: lower_leg_${location}_link -->
  <link name="lower_leg_front_leftL_link">
    <visual>
      <origin rpy="0 0 0" xyz="0 0 0.124"/>
      <geometry>
        <box size="0.017 0.009 0.248"/>
      </geometry>
    </visual>
    <collision>
      <origin rpy="0 0 0" xyz="0 0 0.124"/>
      <geometry>
        <box size="0.017 0.009 0.248"/>
      </geometry>
    </collision>
    <inertial>
      <origin rpy="0 0 0" xyz="0 0 0.124"/>
      <mass value="0.05"/>
      <inertia ixx=".00032459" ixy=".0" ixz=".0" iyy=".00032637" iyz=".0" izz=".000002178"/>
    </inertial>
  </link>
  <gazebo reference="lower_leg_front_leftL_link">
    <material>Gazebo/Grey</material>
    <collision>
      <surface>
        <bounce>
          <restitution_coefficient>0</restitution_coefficient>
          <threshold>1e+06</threshold>
        </bounce>
        <friction>
          <torsional>
            <coefficient>0.05</coefficient>
          </torsional>
          <bullet>
            <rolling_friction>0.05</rolling_friction>
          </bullet>
        </friction>
        <contact>
          <ode>
            <kp>3000.0</kp>
            <kd>100.0</kd>
          </ode>
          <bullet>
            <kp>3000.0</kp>
            <kd>100.0</kd>
          </bullet>
        </contact>
      </surface>
    </collision>
  </gazebo>
  <!-- JOINT: lower_leg_${location}_link to upper_leg_${location}_link -->
  <joint name="8" type="continuous">
    <axis xyz="0 -1 0"/>
    <parent link="upper_leg_front_leftL_link"/>
    <child link="lower_leg_front_leftL_link"/>
    <origin rpy="0 4.189 0" xyz="0 -0.0085 0.05"/>
    <limit effort="100" velocity="100"/>
    <joint_properties damping="0.0" friction="0.0"/>
  </joint>
  <!-- Toe -->
  <!-- LINK: toe${toeSuffix} -->
  <link name="toe0">
    <visual>
      <origin rpy="0 0 0" xyz="0 0 0"/>
      <geometry>
        <sphere radius="0.015"/>
      </geometry>
    </visual>
    <collision>
      <origin rpy="0 0 0" xyz="0 0 0"/>
      <geometry>
        <sphere radius="0.015"/>
      </geometry>
    </collision>
    <inertial>
      <mass value="0.01"/>
      <inertia ixx="0.000025" ixy="0" ixz="0" iyy="0.000025" iyz="0" izz="0.000025"/>
    </inertial>
  </link>
  <gazebo reference="toe0">
    <material>Gazebo/Black</material>
    <collision>
      <surface>
        <bounce>
          <restitution_coefficient>0</restitution_coefficient>
          <threshold>1e+06</threshold>
        </bounce>
        <friction>
          <torsional>
            <coefficient>0.3</coefficient>
          </torsional>
          <ode>
            <mu>0.7</mu>
            <mu2>0.7</mu2>
          </ode>
          <bullet>
            <rolling_friction>0.3</rolling_friction>
            <friction2>0.7</friction2>
          </bullet>
        </friction>
        <contact>
          <ode>
            <kp>30000.0</kp>
            <kd>1000.0</kd>
          </ode>
          <bullet>
            <kp>30000.0</kp>
            <kd>1000.0</kd>
          </bullet>
        </contact>
      </surface>
    </collision>
  </gazebo>
  <!-- JOINT: toe${toeSuffix} to lower_leg_${location}_link -->
  <joint name="toe0" type="fixed">
    <parent link="lower_leg_front_leftL_link"/>
    <child link="toe0"/>
    <origin xyz="0 0 0.248"/>
    <dynamics damping="0.0" friction="0.0"/>
  </joint>
  <!-- LINK: lower_leg_${location}_link -->
  <link name="lower_leg_front_leftR_link">
    <visual>
      <origin rpy="0 0 0" xyz="0 0 0.1"/>
      <geometry>
        <box size="0.017 0.009 0.2"/>
      </geometry>
    </visual>
    <collision>
      <origin rpy="0 0 0" xyz="0 0 0.1"/>
      <geometry>
        <box size="0.017 0.009 0.2"/>
      </geometry>
    </collision>
    <inertial>
      <origin rpy="0 0 0" xyz="0 0 0.1"/>
      <mass value="0.05"/>
      <inertia ixx=".00032459" ixy=".0" ixz=".0" iyy=".00032637" iyz=".0" izz=".000002178"/>
    </inertial>
  </link>
  <gazebo reference="lower_leg_front_leftR_link">
    <material>Gazebo/Grey</material>
    <collision>
      <surface>
        <bounce>
          <restitution_coefficient>0</restitution_coefficient>
          <threshold>1e+06</threshold>
        </bounce>
        <friction>
          <torsional>
            <coefficient>0.05</coefficient>
          </torsional>
          <bullet>
            <rolling_friction>0.05</rolling_friction>
          </bullet>
        </friction>
        <contact>
          <ode>
            <kp>3000.0</kp>
            <kd>100.0</kd>
          </ode>
          <bullet>
            <kp>3000.0</kp>
            <kd>100.0</kd>
          </bullet>
        </contact>
      </surface>
    </collision>
  </gazebo>
  <!-- JOINT: lower_leg_${location}_link to upper_leg_${location}_link -->
  <joint name="9" type="continuous">
    <axis xyz="0 1 0"/>
    <parent link="upper_leg_front_leftR_link"/>
    <child link="lower_leg_front_leftR_link"/>
    <origin rpy="0 -4.189 0" xyz="0 0.0085 0.05"/>
    <limit effort="100" velocity="100"/>
    <joint_properties damping="0.0" friction="0.0"/>
  </joint>
  <!-- LINK: lower_leg_${location}_link -->
  <link name="lower_leg_back_leftL_link">
    <visual>
      <origin rpy="0 0 0" xyz="0 0 0.124"/>
      <geometry>
        <box size="0.017 0.009 0.248"/>
      </geometry>
    </visual>
    <collision>
      <origin rpy="0 0 0" xyz="0 0 0.124"/>
      <geometry>
        <box size="0.017 0.009 0.248"/>
      </geometry>
    </collision>
    <inertial>
      <origin rpy="0 0 0" xyz="0 0 0.124"/>
      <mass value="0.05"/>
      <inertia ixx=".00032459" ixy=".0" ixz=".0" iyy=".00032637" iyz=".0" izz=".000002178"/>
    </inertial>
  </link>
  <gazebo reference="lower_leg_back_leftL_link">
    <material>Gazebo/Grey</material>
    <collision>
      <surface>
        <bounce>
          <restitution_coefficient>0</restitution_coefficient>
          <threshold>1e+06</threshold>
        </bounce>
        <friction>
          <torsional>
            <coefficient>0.05</coefficient>
          </torsional>
          <bullet>
            <rolling_friction>0.05</rolling_friction>
          </bullet>
        </friction>
        <contact>
          <ode>
            <kp>3000.0</kp>
            <kd>100.0</kd>
          </ode>
          <bullet>
            <kp>3000.0</kp>
            <kd>100.0</kd>
          </bullet>
        </contact>
      </surface>
    </collision>
  </gazebo>
  <!-- JOINT: lower_leg_${location}_link to upper_leg_${location}_link -->
  <joint name="10" type="continuous">
    <axis xyz="0 -1 0"/>
    <parent link="upper_leg_back_leftL_link"/>
    <child link="lower_leg_back_leftL_link"/>
    <origin rpy="0 4.189 0" xyz="0 -0.0085 0.05"/>
    <limit effort="100" velocity="100"/>
    <joint_properties damping="0.0" friction="0.0"/>
  </joint>
  <!-- Toe -->
  <!-- LINK: toe${toeSuffix} -->
  <link name="toe2">
    <visual>
      <origin rpy="0 0 0" xyz="0 0 0"/>
      <geometry>
        <sphere radius="0.015"/>
      </geometry>
    </visual>
    <collision>
      <origin rpy="0 0 0" xyz="0 0 0"/>
      <geometry>
        <sphere radius="0.015"/>
      </geometry>
    </collision>
    <inertial>
      <mass value="0.01"/>
      <inertia ixx="0.000025" ixy="0" ixz="0" iyy="0.000025" iyz="0" izz="0.000025"/>
    </inertial>
  </link>
  <gazebo reference="toe2">
    <material>Gazebo/Black</material>
    <collision>
      <surface>
        <bounce>
          <restitution_coefficient>0</restitution_coefficient>
          <threshold>1e+06</threshold>
        </bounce>
        <friction>
          <torsional>
            <coefficient>0.3</coefficient>
          </torsional>
          <ode>
            <mu>0.7</mu>
            <mu2>0.7</mu2>
          </ode>
          <bullet>
            <rolling_friction>0.3</rolling_friction>
            <friction2>0.7</friction2>
          </bullet>
        </friction>
        <contact>
          <ode>
            <kp>30000.0</kp>
            <kd>1000.0</kd>
          </ode>
          <bullet>
            <kp>30000.0</kp>
            <kd>1000.0</kd>
          </bullet>
        </contact>
      </surface>
    </collision>
  </gazebo>
  <!-- JOINT: toe${toeSuffix} to lower_leg_${location}_link -->
  <joint name="toe2" type="fixed">
    <parent link="lower_leg_back_leftL_link"/>
    <child link="toe2"/>
    <origin xyz="0 0 0.248"/>
    <dynamics damping="0.0" friction="0.0"/>
  </joint>
  <!-- LINK: lower_leg_${location}_link -->
  <link name="lower_leg_back_leftR_link">
    <visual>
      <origin rpy="0 0 0" xyz="0 0 0.1"/>
      <geometry>
        <box size="0.017 0.009 0.2"/>
      </geometry>
    </visual>
    <collision>
      <origin rpy="0 0 0" xyz="0 0 0.1"/>
      <geometry>
        <box size="0.017 0.009 0.2"/>
      </geometry>
    </collision>
    <inertial>
      <origin rpy="0 0 0" xyz="0 0 0.1"/>
      <mass value="0.05"/>
      <inertia ixx=".00032459" ixy=".0" ixz=".0" iyy=".00032637" iyz=".0" izz=".000002178"/>
    </inertial>
  </link>
  <gazebo reference="lower_leg_back_leftR_link">
    <material>Gazebo/Grey</material>
    <collision>
      <surface>
        <bounce>
          <restitution_coefficient>0</restitution_coefficient>
          <threshold>1e+06</threshold>
        </bounce>
        <friction>
          <torsional>
            <coefficient>0.05</coefficient>
          </torsional>
          <bullet>
            <rolling_friction>0.05</rolling_friction>
          </bullet>
        </friction>
        <contact>
          <ode>
            <kp>3000.0</kp>
            <kd>100.0</kd>
          </ode>
          <bullet>
            <kp>3000.0</kp>
            <kd>100.0</kd>
          </bullet>
        </contact>
      </surface>
    </collision>
  </gazebo>
  <!-- JOINT: lower_leg_${location}_link to upper_leg_${location}_link -->
  <joint name="11" type="continuous">
    <axis xyz="0 1 0"/>
    <parent link="upper_leg_back_leftR_link"/>
    <child link="lower_leg_back_leftR_link"/>
    <origin rpy="0 -4.189 0" xyz="0 0.0085 0.05"/>
    <limit effort="100" velocity="100"/>
    <joint_properties damping="0.0" friction="0.0"/>
  </joint>
  <!-- LINK: lower_leg_${location}_link -->
  <link name="lower_leg_front_rightL_link">
    <visual>
      <origin rpy="0 0 0" xyz="0 0 0.1"/>
      <geometry>
        <box size="0.017 0.009 0.2"/>
      </geometry>
    </visual>
    <collision>
      <origin rpy="0 0 0" xyz="0 0 0.1"/>
      <geometry>
        <box size="0.017 0.009 0.2"/>
      </geometry>
    </collision>
    <inertial>
      <origin rpy="0 0 0" xyz="0 0 0.1"/>
      <mass value="0.05"/>
      <inertia ixx=".00032459" ixy=".0" ixz=".0" iyy=".00032637" iyz=".0" izz=".000002178"/>
    </inertial>
  </link>
  <gazebo reference="lower_leg_front_rightL_link">
    <material>Gazebo/Grey</material>
    <collision>
      <surface>
        <bounce>
          <restitution_coefficient>0</restitution_coefficient>
          <threshold>1e+06</threshold>
        </bounce>
        <friction>
          <torsional>
            <coefficient>0.05</coefficient>
          </torsional>
          <bullet>
            <rolling_friction>0.05</rolling_friction>
          </bullet>
        </friction>
        <contact>
          <ode>
            <kp>3000.0</kp>
            <kd>100.0</kd>
          </ode>
          <bullet>
            <kp>3000.0</kp>
            <kd>100.0</kd>
          </bullet>
        </contact>
      </surface>
    </collision>
  </gazebo>
  <!-- JOINT: lower_leg_${location}_link to upper_leg_${location}_link -->
  <joint name="12" type="continuous">
    <axis xyz="0 -1 0"/>
    <parent link="upper_leg_front_rightL_link"/>
    <child link="lower_leg_front_rightL_link"/>
    <origin rpy="0 -4.189 0" xyz="0 -0.0085 0.05"/>
    <limit effort="100" velocity="100"/>
    <joint_properties damping="0.0" friction="0.0"/>
  </joint>
  <!-- LINK: lower_leg_${location}_link -->
  <link name="lower_leg_front_rightR_link">
    <visual>
      <origin rpy="0 0 0" xyz="0 0 0.124"/>
      <geometry>
        <box size="0.017 0.009 0.248"/>
      </geometry>
    </visual>
    <collision>
      <origin rpy="0 0 0" xyz="0 0 0.124"/>
      <geometry>
        <box size="0.017 0.009 0.248"/>
      </geometry>
    </collision>
    <inertial>
      <origin rpy="0 0 0" xyz="0 0 0.124"/>
      <mass value="0.05"/>
      <inertia ixx=".00032459" ixy=".0" ixz=".0" iyy=".00032637" iyz=".0" izz=".000002178"/>
    </inertial>
  </link>
  <gazebo reference="lower_leg_front_rightR_link">
    <material>Gazebo/Grey</material>
    <collision>
      <surface>
        <bounce>
          <restitution_coefficient>0</restitution_coefficient>
          <threshold>1e+06</threshold>
        </bounce>
        <friction>
          <torsional>
            <coefficient>0.05</coefficient>
          </torsional>
          <bullet>
            <rolling_friction>0.05</rolling_friction>
          </bullet>
        </friction>
        <contact>
          <ode>
            <kp>3000.0</kp>
            <kd>100.0</kd>
          </ode>
          <bullet>
            <kp>3000.0</kp>
            <kd>100.0</kd>
          </bullet>
        </contact>
      </surface>
    </collision>
  </gazebo>
  <!-- JOINT: lower_leg_${location}_link to upper_leg_${location}_link -->
  <joint name="13" type="continuous">
    <axis xyz="0 1 0"/>
    <parent link="upper_leg_front_rightR_link"/>
    <child link="lower_leg_front_rightR_link"/>
    <origin rpy="0 4.189 0" xyz="0 0.0085 0.05"/>
    <limit effort="100" velocity="100"/>
    <joint_properties damping="0.0" friction="0.0"/>
  </joint>
  <!-- Toe -->
  <!-- LINK: toe${toeSuffix} -->
  <link name="toe5">
    <visual>
      <origin rpy="0 0 0" xyz="0 0 0"/>
      <geometry>
        <sphere radius="0.015"/>
      </geometry>
    </visual>
    <collision>
      <origin rpy="0 0 0" xyz="0 0 0"/>
      <geometry>
        <sphere radius="0.015"/>
      </geometry>
    </collision>
    <inertial>
      <mass value="0.01"/>
      <inertia ixx="0.000025" ixy="0" ixz="0" iyy="0.000025" iyz="0" izz="0.000025"/>
    </inertial>
  </link>
  <gazebo reference="toe5">
    <material>Gazebo/Black</material>
    <collision>
      <surface>
        <bounce>
          <restitution_coefficient>0</restitution_coefficient>
          <threshold>1e+06</threshold>
        </bounce>
        <friction>
          <torsional>
            <coefficient>0.3</coefficient>
          </torsional>
          <ode>
            <mu>0.7</mu>
            <mu2>0.7</mu2>
          </ode>
          <bullet>
            <rolling_friction>0.3</rolling_friction>
            <friction2>0.7</friction2>
          </bullet>
        </friction>
        <contact>
          <ode>
            <kp>30000.0</kp>
            <kd>1000.0</kd>
          </ode>
          <bullet>
            <kp>30000.0</kp>
            <kd>1000.0</kd>
          </bullet>
        </contact>
      </surface>
    </collision>
  </gazebo>
  <!-- JOINT: toe${toeSuffix} to lower_leg_${location}_link -->
  <joint name="toe5" type="fixed">
    <parent link="lower_leg_front_rightR_link"/>
    <child link="toe5"/>
    <origin xyz="0 0 0.248"/>
    <dynamics damping="0.0" friction="0.0"/>
  </joint>
  <!-- LINK: lower_leg_${location}_link -->
  <link name="lower_leg_back_rightL_link">
    <visual>
      <origin rpy="0 0 0" xyz="0 0 0.1"/>
      <geometry>
        <box size="0.017 0.009 0.2"/>
      </geometry>
    </visual>
    <collision>
      <origin rpy="0 0 0" xyz="0 0 0.1"/>
      <geometry>
        <box size="0.017 0.009 0.2"/>
      </geometry>
    </collision>
    <inertial>
      <origin rpy="0 0 0" xyz="0 0 0.1"/>
      <mass value="0.05"/>
      <inertia ixx=".00032459" ixy=".0" ixz=".0" iyy=".00032637" iyz=".0" izz=".000002178"/>
    </inertial>
  </link>
  <gazebo reference="lower_leg_back_rightL_link">
    <material>Gazebo/Grey</material>
    <collision>
      <surface>
        <bounce>
          <restitution_coefficient>0</restitution_coefficient>
          <threshold>1e+06</threshold>
        </bounce>
        <friction>
          <torsional>
            <coefficient>0.05</coefficient>
          </torsional>
          <bullet>
            <rolling_friction>0.05</rolling_friction>
          </bullet>
        </friction>
        <contact>
          <ode>
            <kp>3000.0</kp>
            <kd>100.0</kd>
          </ode>
          <bullet>
            <kp>3000.0</kp>
            <kd>100.0</kd>
          </bullet>
        </contact>
      </surface>
    </collision>
  </gazebo>
  <!-- JOINT: lower_leg_${location}_link to upper_leg_${location}_link -->
  <joint name="14" type="continuous">
    <axis xyz="0 -1 0"/>
    <parent link="upper_leg_back_rightL_link"/>
    <child link="lower_leg_back_rightL_link"/>
    <origin rpy="0 -4.189 0" xyz="0 -0.0085 0.05"/>
    <limit effort="100" velocity="100"/>
    <joint_properties damping="0.0" friction="0.0"/>
  </joint>
  <!-- LINK: lower_leg_${location}_link -->
  <link name="lower_leg_back_rightR_link">
    <visual>
      <origin rpy="0 0 0" xyz="0 0 0.124"/>
      <geometry>
        <box size="0.017 0.009 0.248"/>
      </geometry>
    </visual>
    <collision>
      <origin rpy="0 0 0" xyz="0 0 0.124"/>
      <geometry>
        <box size="0.017 0.009 0.248"/>
      </geometry>
    </collision>
    <inertial>
      <origin rpy="0 0 0" xyz="0 0 0.124"/>
      <mass value="0.05"/>
      <inertia ixx=".00032459" ixy=".0" ixz=".0" iyy=".00032637" iyz=".0" izz=".000002178"/>
    </inertial>
  </link>
  <gazebo reference="lower_leg_back_rightR_link">
    <material>Gazebo/Grey</material>
    <collision>
      <surface>
        <bounce>
          <restitution_coefficient>0</restitution_coefficient>
          <threshold>1e+06</threshold>
        </bounce>
        <friction>
          <torsional>
            <coefficient>0.05</coefficient>
          </torsional>
          <bullet>
            <rolling_friction>0.05</rolling_friction>
          </bullet>
        </friction>
        <contact>
          <ode>
            <kp>3000.0</kp>
            <kd>100.0</kd>
          </ode>
          <bullet>
            <kp>3000.0</kp>
            <kd>100.0</kd>
          </bullet>
        </contact>
      </surface>
    </collision>
  </gazebo>
  <!-- JOINT: lower_leg_${location}_link to upper_leg_${location}_link -->
  <joint name="15" type="continuous">
    <axis xyz="0 1 0"/>
    <parent link="upper_leg_back_rightR_link"/>
    <child link="lower_leg_back_rightR_link"/>
    <origin rpy="0 4.189 0" xyz="0 0.0085 0.05"/>
    <limit effort="100" velocity="100"/>
    <joint_properties damping="0.0" friction="0.0"/>
  </joint>
  <!-- Toe -->
  <!-- LINK: toe${toeSuffix} -->
  <link name="toe7">
    <visual>
      <origin rpy="0 0 0" xyz="0 0 0"/>
      <geometry>
        <sphere radius="0.015"/>
      </geometry>
    </visual>
    <collision>
      <origin rpy="0 0 0" xyz="0 0 0"/>
      <geometry>
        <sphere radius="0.015"/>
      </geometry>
    </collision>
    <inertial>
      <mass value="0.01"/>
      <inertia ixx="0.000025" ixy="0" ixz="0" iyy="0.000025" iyz="0" izz="0.000025"/>
    </inertial>
  </link>
  <gazebo reference="toe7">
    <material>Gazebo/Black</material>
    <collision>
      <surface>
        <bounce>
          <restitution_coefficient>0</restitution_coefficient>
          <threshold>1e+06</threshold>
        </bounce>
        <friction>
          <torsional>
            <coefficient>0.3</coefficient>
          </torsional>
          <ode>
            <mu>0.7</mu>
            <mu2>0.7</mu2>
          </ode>
          <bullet>
            <rolling_friction>0.3</rolling_friction>
            <friction2>0.7</friction2>
          </bullet>
        </friction>
        <contact>
          <ode>
            <kp>30000.0</kp>
            <kd>1000.0</kd>
          </ode>
          <bullet>
            <kp>30000.0</kp>
            <kd>1000.0</kd>
          </bullet>
        </contact>
      </surface>
    </collision>
  </gazebo>
  <!-- JOINT: toe${toeSuffix} to lower_leg_${location}_link -->
  <joint name="toe7" type="fixed">
    <parent link="lower_leg_back_rightR_link"/>
    <child link="toe7"/>
    <origin xyz="0 0 0.248"/>
    <dynamics damping="0.0" friction="0.0"/>
  </joint>
  <!-- Add ros_control plugin -->
  <gazebo>
    <plugin filename="libgazebo_ros_control.so" name="gazebo_ros_control">
      <robotNamespace>/minitaur</robotNamespace>
    </plugin>
  </gazebo>
</robot>
